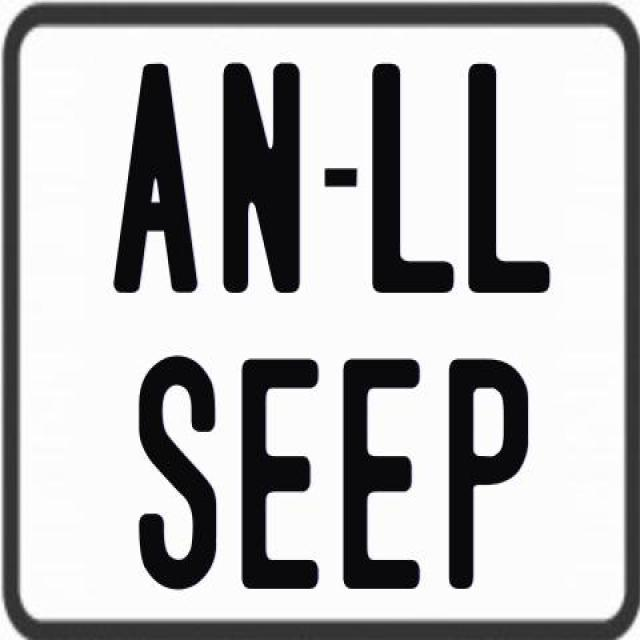A: (111, 63, 200, 294)
E: (237, 355, 316, 587), (343, 356, 421, 588)
L: (468, 64, 556, 296), (372, 59, 456, 296)
N: (221, 62, 299, 301)
P: (446, 355, 526, 587)
S: (136, 352, 217, 589)
